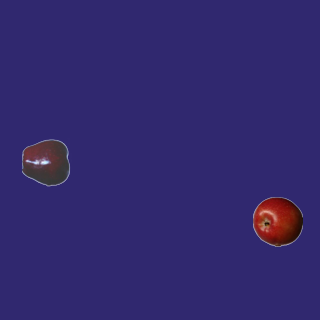Apple Braeburn: (252, 196, 302, 246)
Apple Red Delicious: (21, 137, 71, 187)
